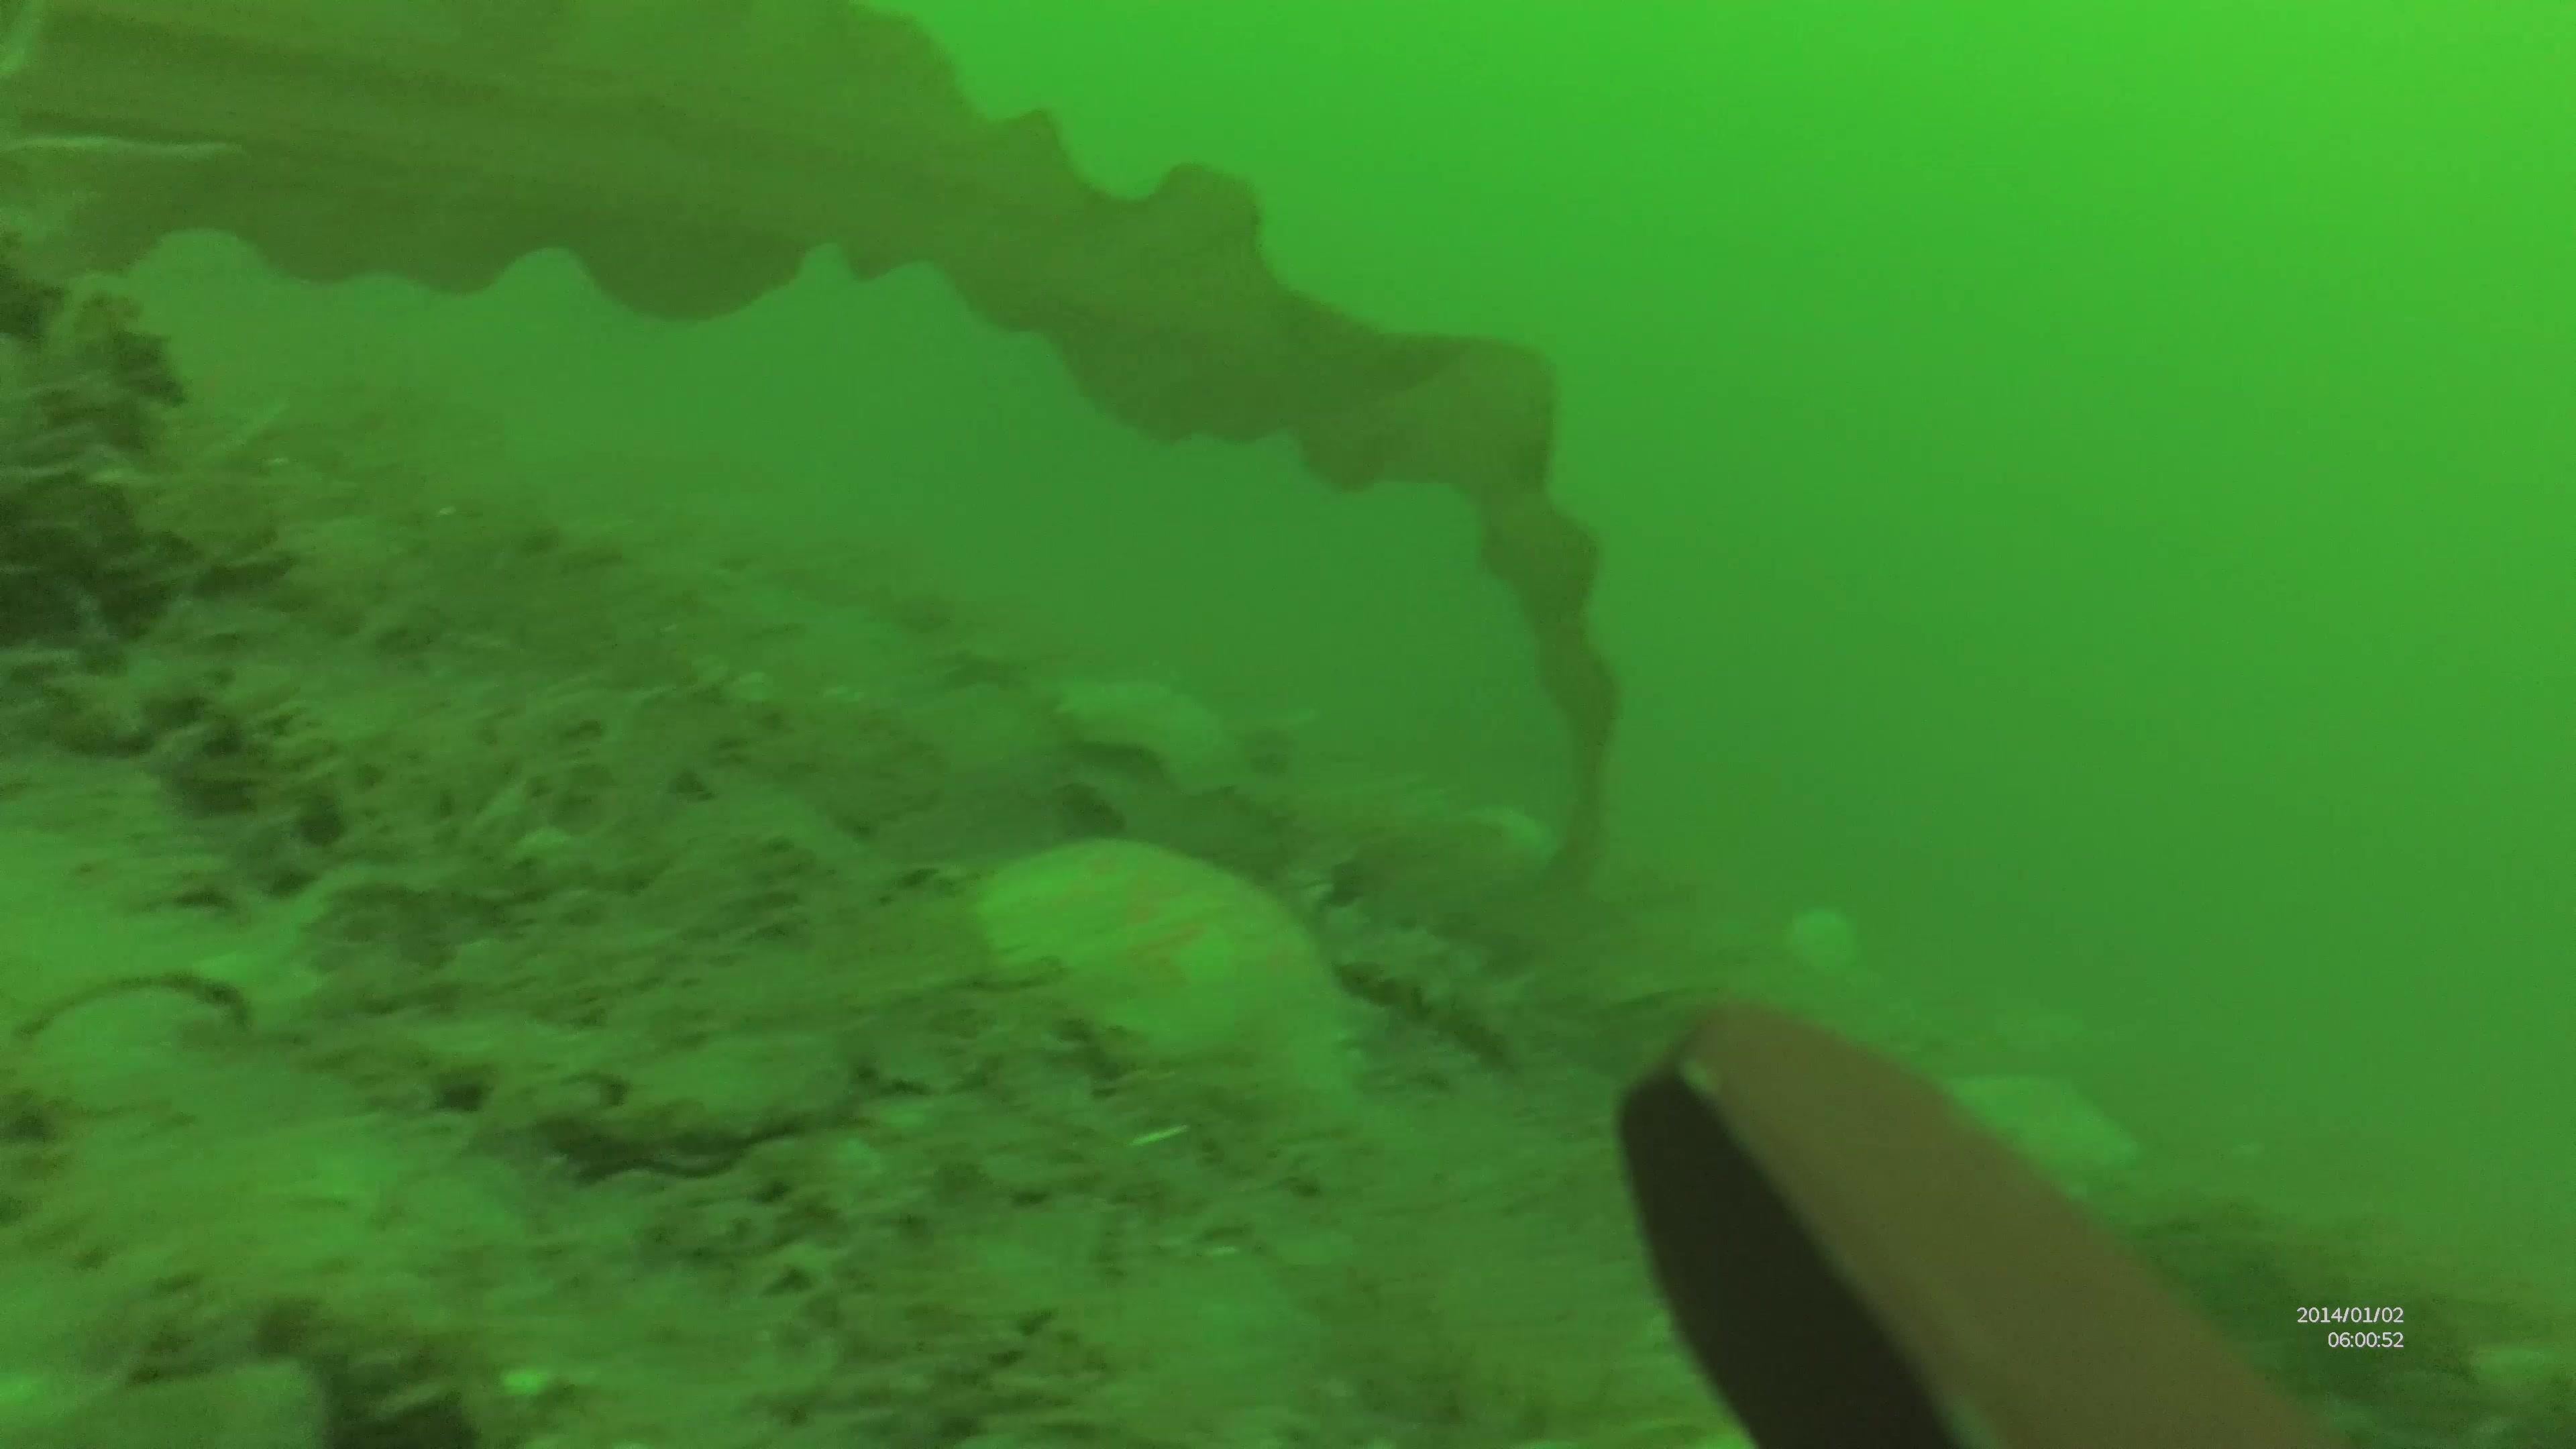starfish: (970, 833, 1369, 1097), (1047, 667, 1244, 796)
